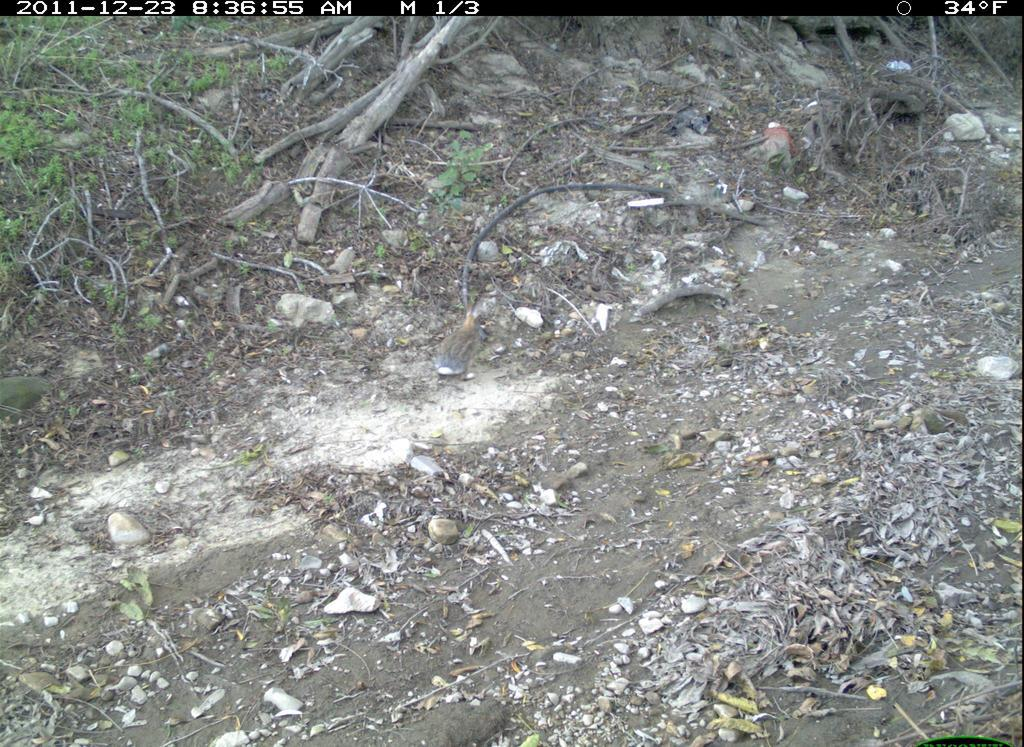rabbit: (429, 288, 493, 386)
